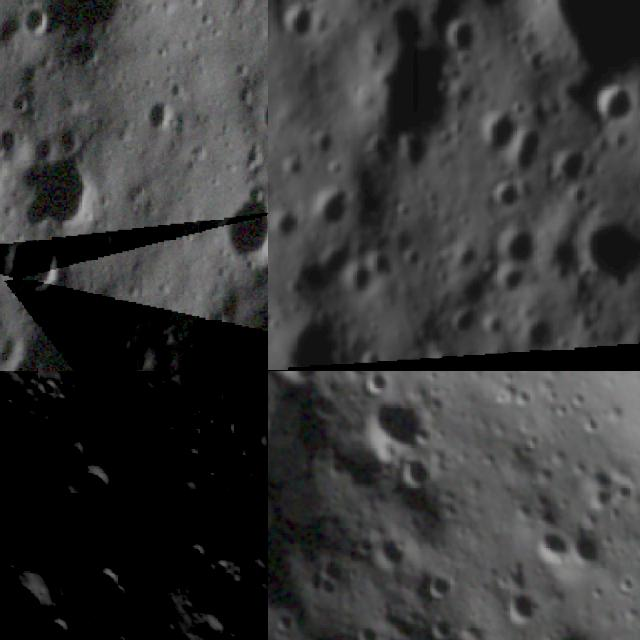crater: (12, 285, 151, 371), (8, 130, 102, 233), (348, 383, 444, 472), (268, 504, 330, 640), (38, 0, 149, 70), (184, 553, 261, 633), (0, 561, 66, 640), (0, 226, 73, 293), (221, 175, 268, 278), (576, 212, 640, 280), (59, 458, 124, 524), (82, 555, 142, 617), (386, 446, 444, 508), (362, 522, 418, 580), (494, 580, 546, 640), (529, 512, 575, 570), (172, 531, 224, 579), (494, 222, 544, 271), (476, 106, 527, 154), (412, 560, 463, 605), (33, 602, 90, 640), (5, 371, 111, 390), (593, 82, 639, 125), (438, 16, 480, 60), (55, 437, 96, 478), (412, 350, 492, 371), (545, 143, 585, 184), (316, 191, 358, 229), (490, 169, 524, 214), (145, 95, 180, 137), (5, 371, 54, 399), (281, 3, 313, 44), (14, 1, 48, 39), (268, 208, 298, 238), (170, 348, 204, 371), (256, 95, 268, 135)
